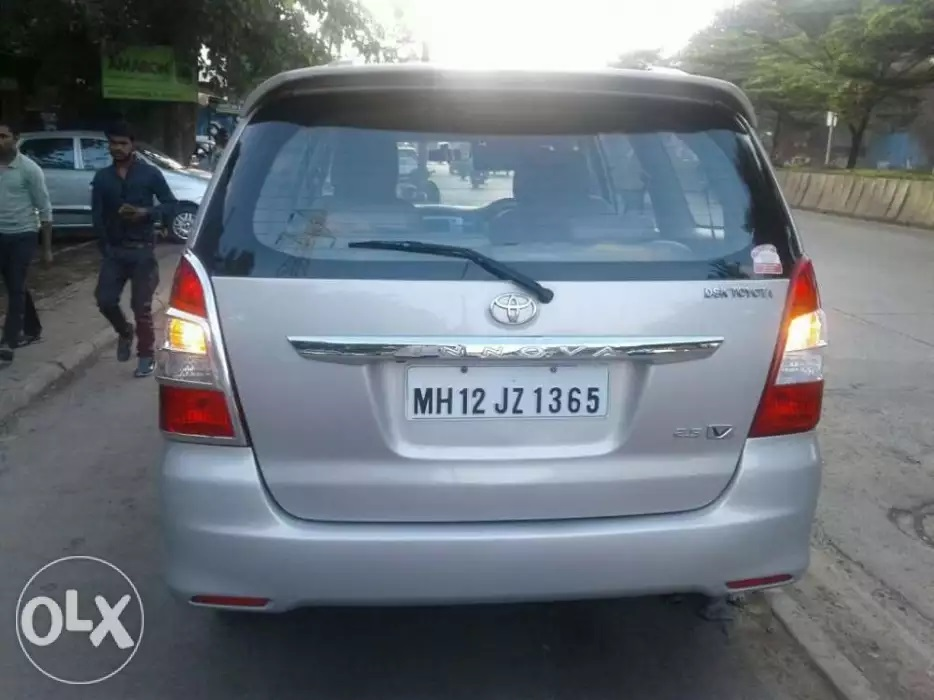licenseplate: (401, 361, 611, 422)
